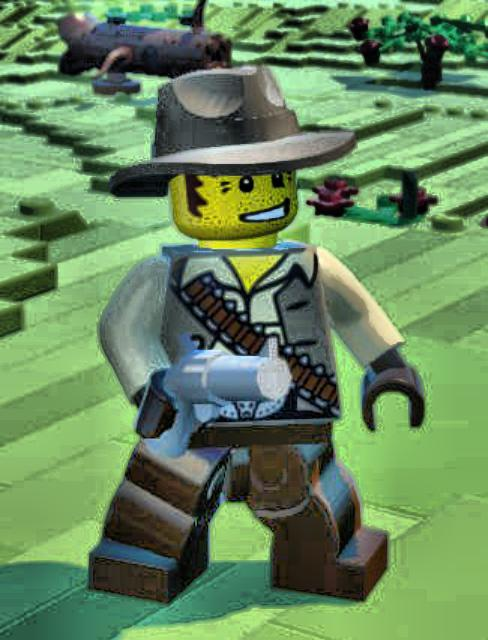pistol: (138, 330, 288, 450)
